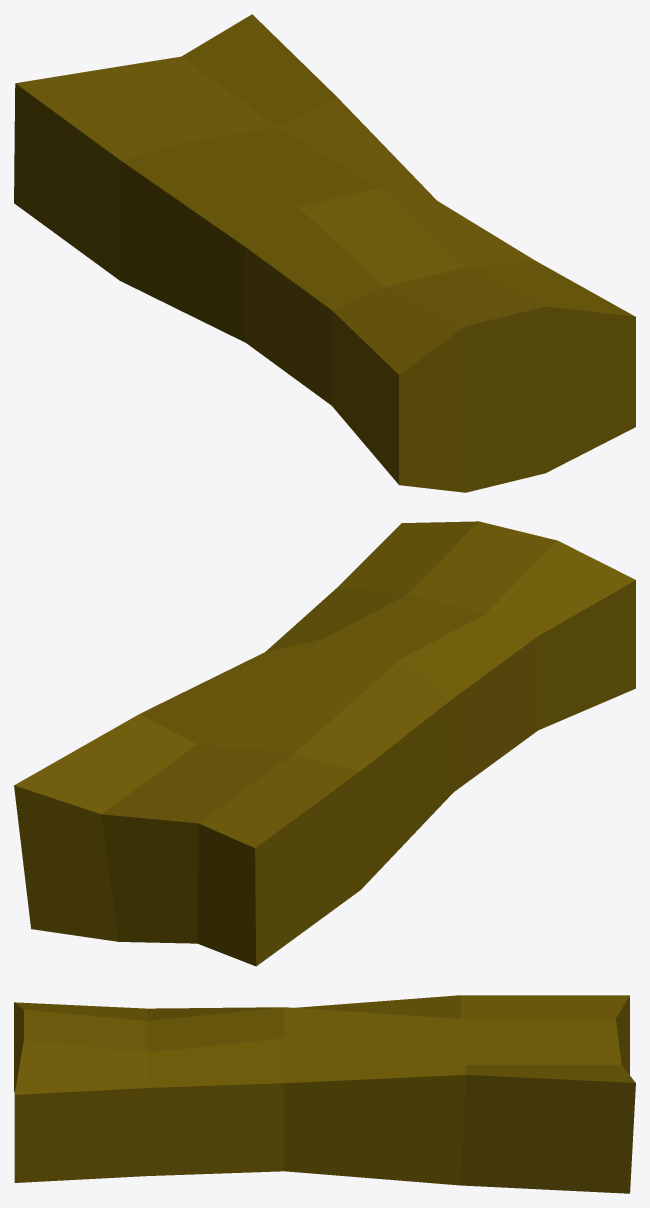
Rendered from wood.glb.
3 renders of one model, top to bottom at view 1: azimuth 30°, elevation 25°; view 2: azimuth 150°, elevation 25°; view 3: azimuth 270°, elevation 25°, orthographic. The views are drawn at different scales.
Parts seen in each view (by area): view 1: Cube; view 2: Cube; view 3: Cube.
Part boxes in pixels (left/top/right/bottom): Cube: left=14, top=14, right=635, bottom=492; Cube: left=14, top=521, right=635, bottom=966; Cube: left=14, top=995, right=635, bottom=1193.
Bounding box in the file's own units: 0.8424 × 0.5745 × 2.34.
